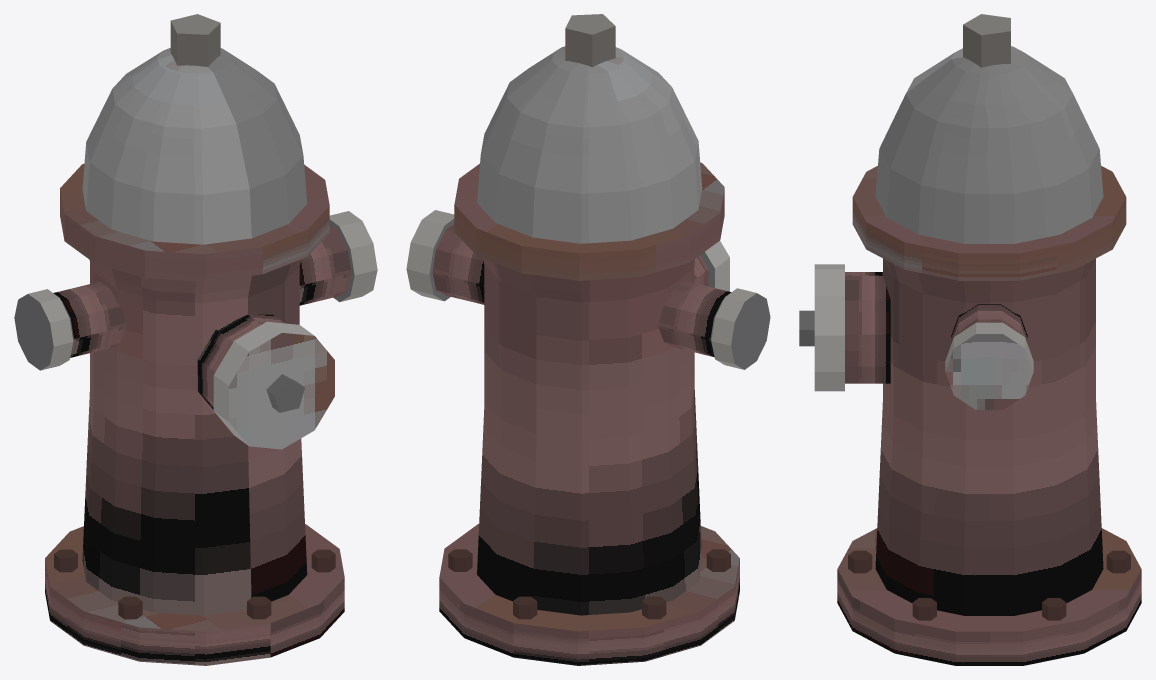
Rendered from Building_AncientHydrant.glb.
The picture shows the model from 3 angles, left to right: view 1: azimuth 30°, elevation 25°; view 2: azimuth 150°, elevation 25°; view 3: azimuth 270°, elevation 25°; orthographic projection.
Visible parts, largest first — view 1: AncientHydrant; view 2: AncientHydrant; view 3: AncientHydrant.
Boxes of the visible parts, left/top/right/bottom form: AncientHydrant: left=14, top=14, right=377, bottom=665; AncientHydrant: left=406, top=14, right=770, bottom=665; AncientHydrant: left=799, top=14, right=1141, bottom=665.
Bounding box in the file's own units: 0.49 × 0.84 × 0.45.
1 material, 1 textured.
